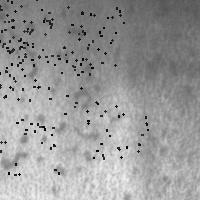pitted_surface: (52, 23, 185, 199), (1, 15, 82, 196), (63, 6, 123, 64), (0, 119, 58, 174), (48, 55, 101, 115), (87, 105, 147, 157), (1, 12, 58, 64), (0, 0, 51, 56), (0, 43, 38, 99)
